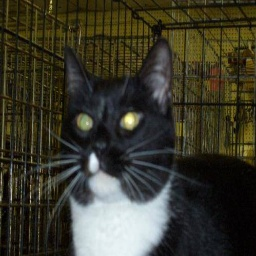cat: (58, 38, 256, 256)
